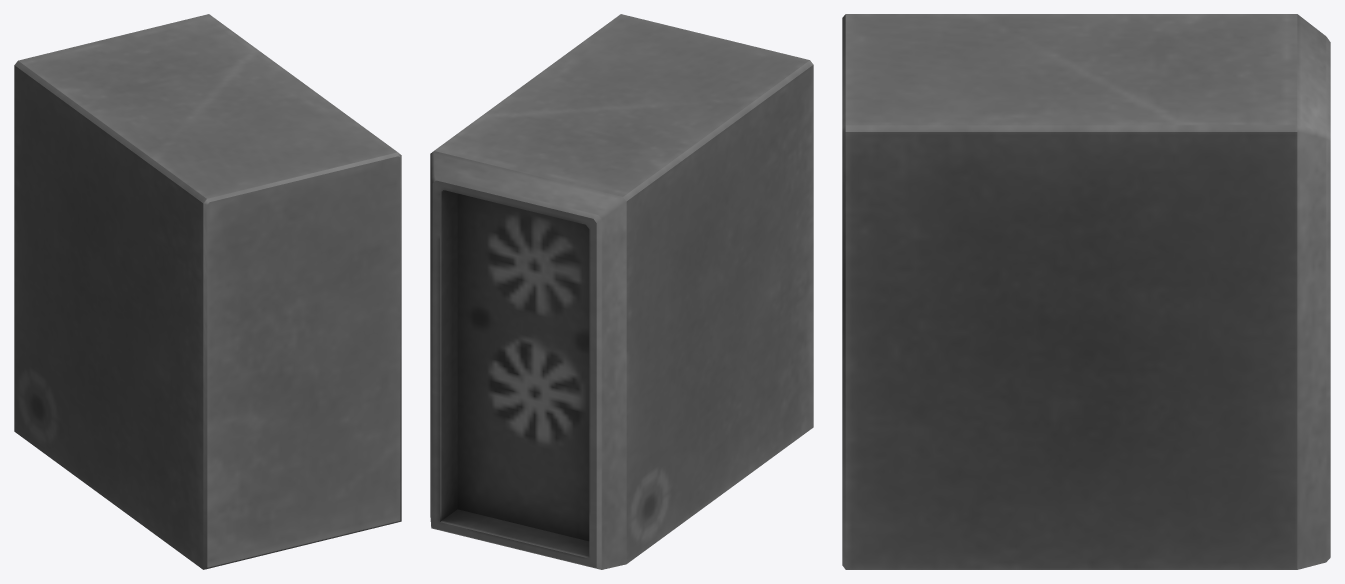
The picture shows the model from 3 angles, left to right: view 1: azimuth 30°, elevation 25°; view 2: azimuth 150°, elevation 25°; view 3: azimuth 270°, elevation 25°; orthographic projection. The views are drawn at different scales.
Visible parts, largest first — view 1: PC 1; view 2: PC 1; view 3: PC 1.
Boxes of the visible parts, <box> form: PC 1: <box>14,14,401,569</box>; PC 1: <box>430,14,813,569</box>; PC 1: <box>842,14,1330,569</box>.
Bounding box in the file's own units: 0.28 × 0.5 × 0.5.
